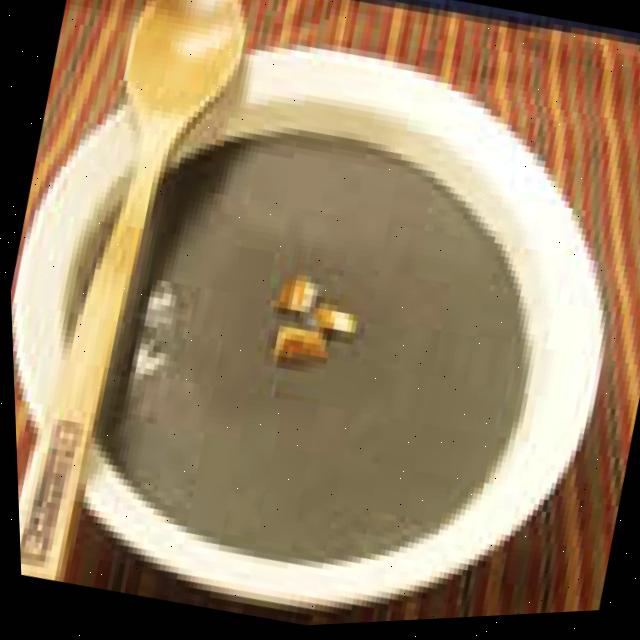汤锅炖物: (123, 15, 640, 635)
